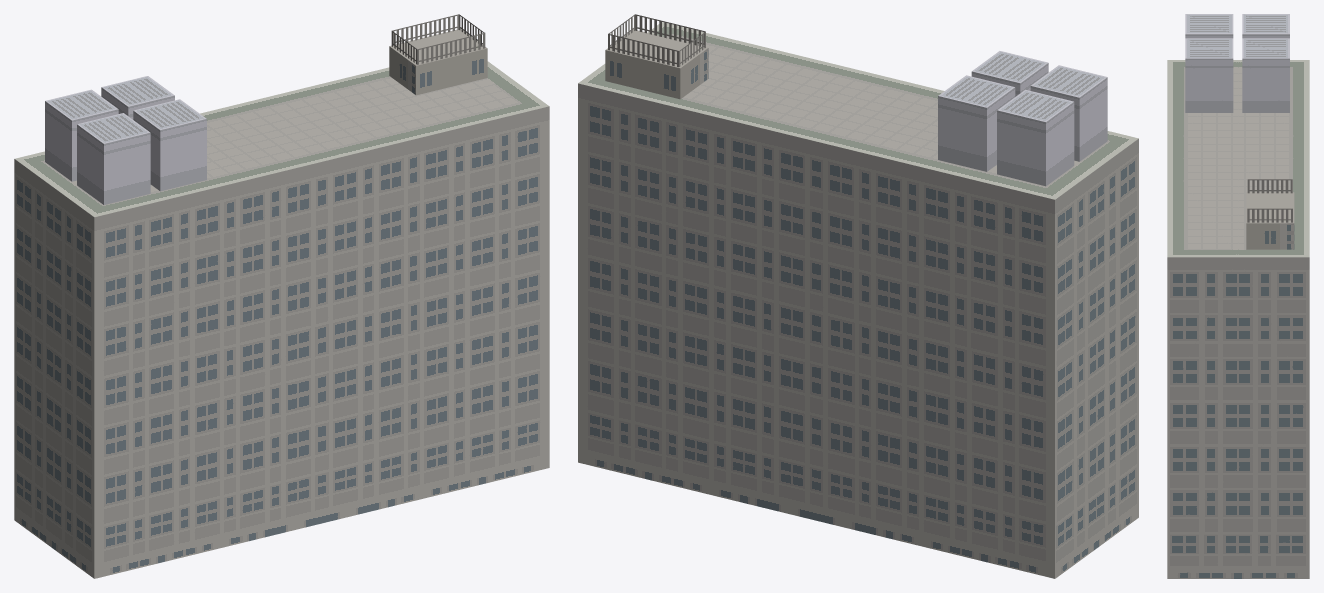
The model's file is 026f_Salmon_Building.glb.
3 views of the same model, side by side, from view 1: azimuth 30°, elevation 25°; view 2: azimuth 150°, elevation 25°; view 3: azimuth 270°, elevation 25° (orthographic). The views are drawn at different scales.
Visible parts, largest first — view 1: part_0; view 2: part_0; view 3: part_0.
Part boxes in pixels (left/top/right/bottom): part_0: left=14, top=14, right=549, bottom=578; part_0: left=578, top=14, right=1138, bottom=578; part_0: left=1167, top=14, right=1309, bottom=578.
Bounding box in the file's own units: 86.53 × 76.82 × 26.34.
Materials: 1 (1 with a texture image).
